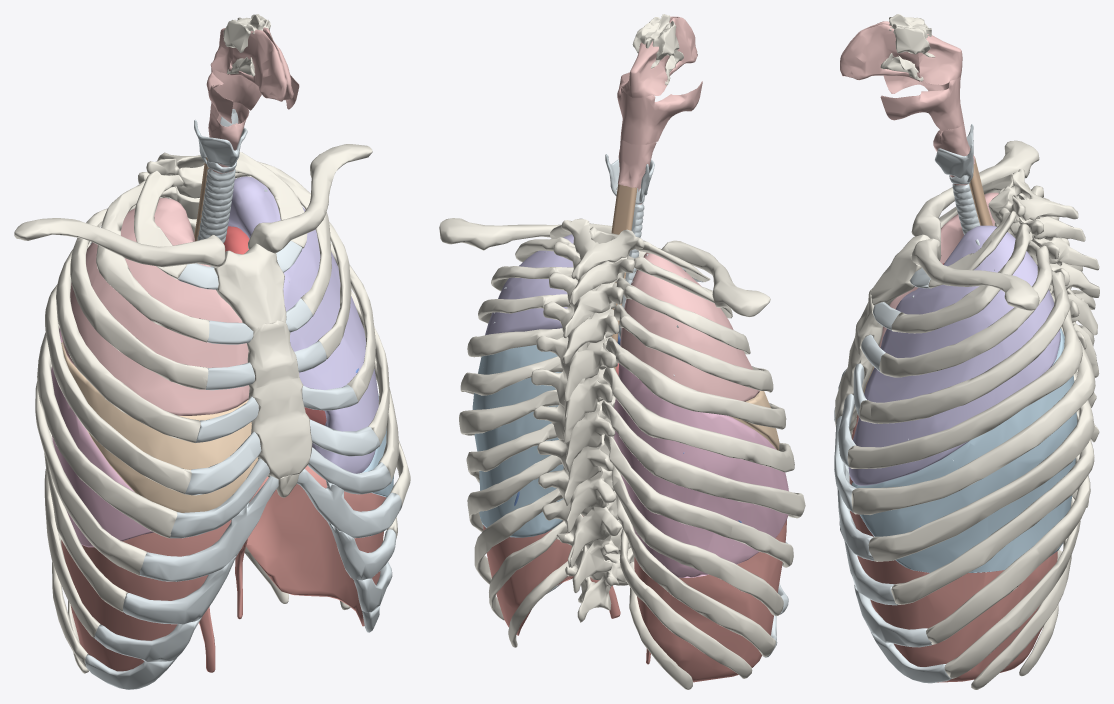
The model's file is respiratory.glb.
3 renders of one model, left to right at view 1: azimuth 30°, elevation 25°; view 2: azimuth 150°, elevation 25°; view 3: azimuth 270°, elevation 25°, orthographic. The views are drawn at different scales.
Visible parts, largest first — view 1: diaphragm, right_upper_lobe, sternum, left_upper_lobe, right_middle_lobe, rib_right_6, rib_right_4, rib_right_5, rib_right_3, clavicle_right, rib_right_2, costal_cartilage_right_7 (+36 smaller); view 2: right_lower_lobe, diaphragm, right_upper_lobe, left_lower_lobe, rib_right_7, rib_right_6, rib_right_8, rib_right_9, rib_right_5, rib_right_10, left_upper_lobe, rib_right_11 (+39 smaller); view 3: left_upper_lobe, left_lower_lobe, diaphragm, rib_left_6, rib_left_5, rib_left_7, rib_left_4, rib_left_8, rib_left_9, rib_left_3, sternum, rib_left_10 (+32 smaller).
Part boxes in pixels (left/top/right/bottom): diaphragm: left=61, top=465, right=386, bottom=672; right_upper_lobe: left=61, top=197, right=249, bottom=415; sternum: left=214, top=243, right=312, bottom=497; left_upper_lobe: left=228, top=176, right=378, bottom=473; right_middle_lobe: left=61, top=342, right=257, bottom=512; rib_right_6: left=37, top=324, right=177, bottom=538; rib_right_4: left=56, top=241, right=200, bottom=442; rib_right_5: left=45, top=284, right=191, bottom=494; rib_right_3: left=70, top=205, right=208, bottom=389; clavicle_right: left=14, top=218, right=225, bottom=267; rib_right_2: left=96, top=180, right=209, bottom=342; costal_cartilage_right_7: left=139, top=475, right=278, bottom=581; right_lower_lobe: left=614, top=363, right=788, bottom=577; diaphragm: left=483, top=515, right=786, bottom=682; right_upper_lobe: left=620, top=252, right=759, bottom=401; left_lower_lobe: left=472, top=345, right=563, bottom=537; rib_right_7: left=601, top=400, right=805, bottom=518; rib_right_6: left=603, top=367, right=794, bottom=472; rib_right_8: left=604, top=434, right=793, bottom=567; rib_right_9: left=612, top=464, right=783, bottom=615; rib_right_5: left=606, top=337, right=786, bottom=429; rib_right_10: left=616, top=494, right=776, bottom=656; left_upper_lobe: left=485, top=234, right=573, bottom=335; rib_right_11: left=619, top=529, right=752, bottom=678; left_upper_lobe: left=848, top=225, right=1060, bottom=485; left_lower_lobe: left=851, top=328, right=1077, bottom=572; diaphragm: left=849, top=414, right=1057, bottom=682; rib_left_6: left=851, top=326, right=1095, bottom=514; rib_left_5: left=847, top=295, right=1082, bottom=468; rib_left_7: left=868, top=372, right=1094, bottom=561; rib_left_4: left=859, top=271, right=1070, bottom=423; rib_left_8: left=891, top=410, right=1094, bottom=604; rib_left_9: left=926, top=454, right=1090, bottom=644; rib_left_3: left=879, top=241, right=1052, bottom=377; sternum: left=835, top=234, right=930, bottom=436; rib_left_10: left=944, top=496, right=1080, bottom=678.
Bounding box in the file's own units: 309 × 563 × 213.
